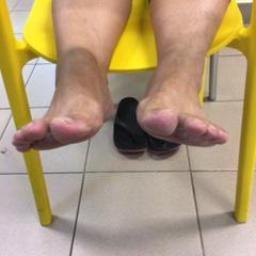Front View -Both Feet-: (3, 19, 239, 176)
